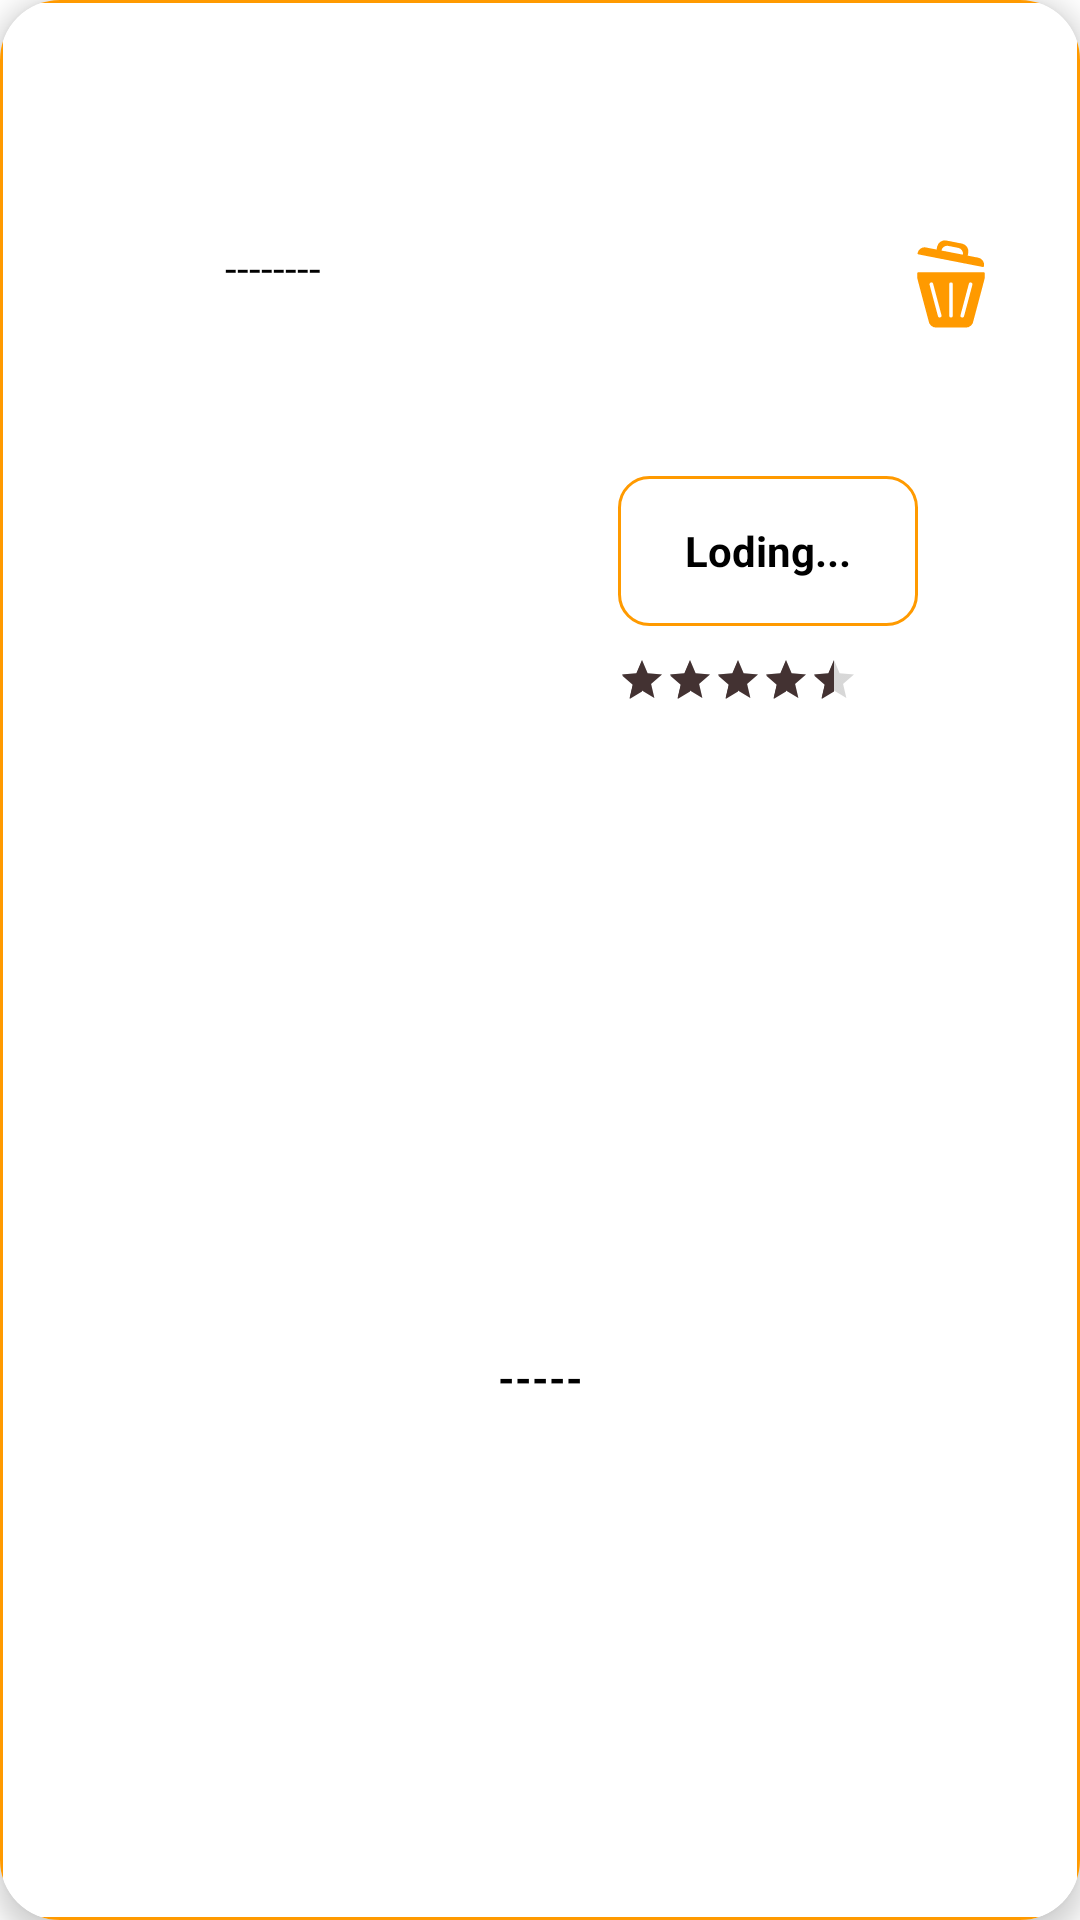

Named icons in this screenshot (1080 x 1920) and their centers, (x,y):
delete: (951,284)
